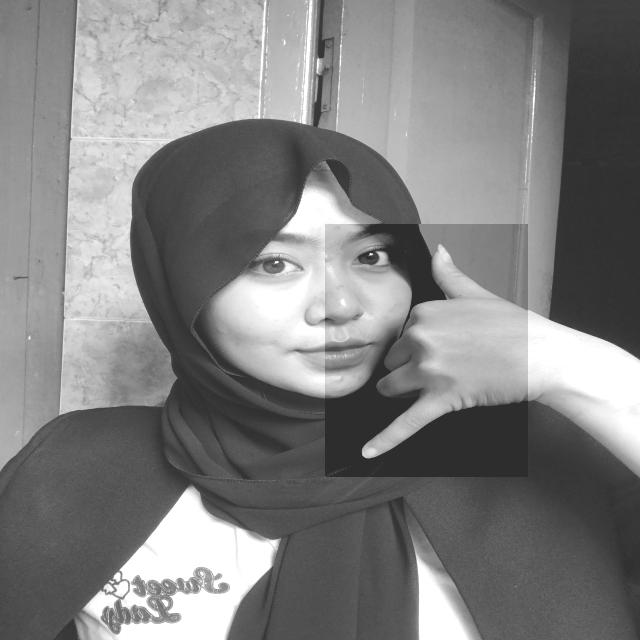telpon: (326, 224, 530, 477)
